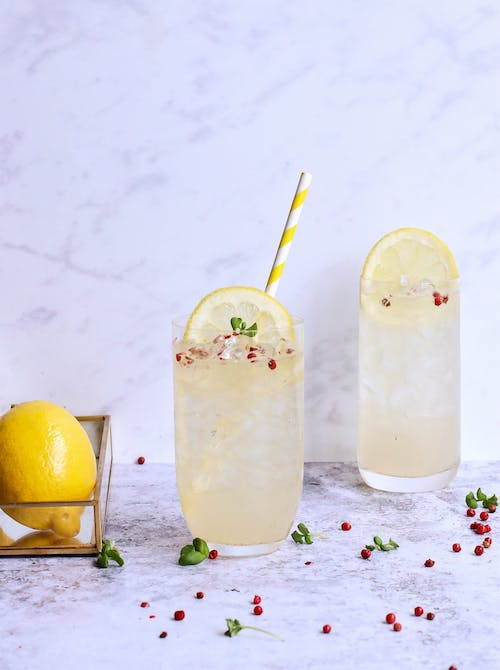alcohol: (171, 311, 305, 557), (355, 271, 462, 494)
